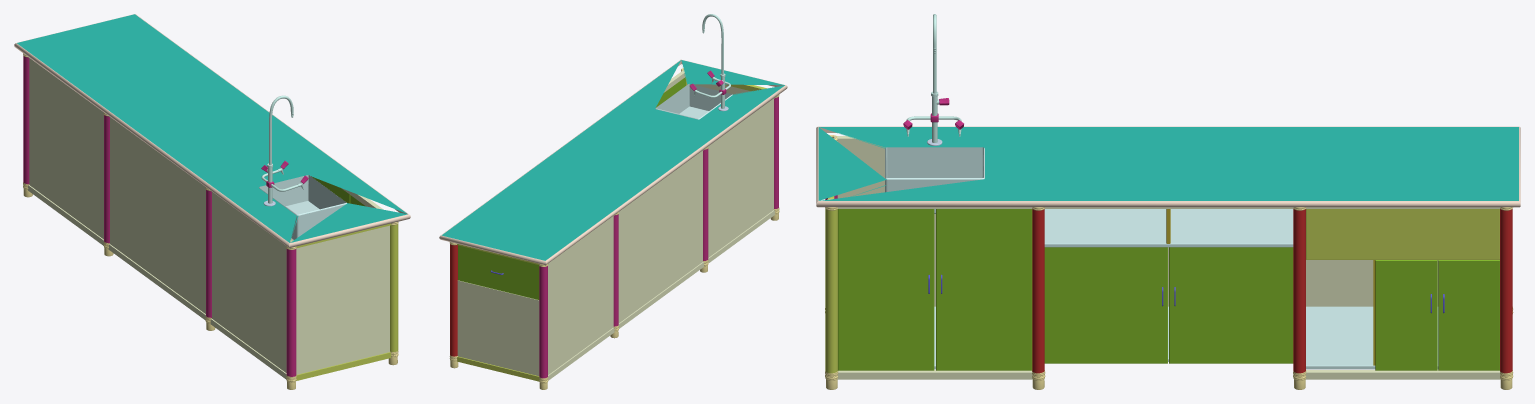
File: experiment_table.gltf
The picture shows the model from 3 angles, left to right: view 1: azimuth 30°, elevation 25°; view 2: azimuth 150°, elevation 25°; view 3: azimuth 270°, elevation 25°; orthographic projection. The views are drawn at different scales.
Visible parts, largest first — view 1: Obj3d66_623504_2_128, Obj3d66_623504_83_994, Obj3d66_623504_16_648, Obj3d66_623504_1_82, Obj3d66_623504_94_88, Obj3d66_623504_84_915, Obj3d66_623504_13_331, Obj3d66_623504_7_619, Obj3d66_623504_27_129, Obj3d66_623504_42_282, Obj3d66_623504_69_554, Obj3d66_623504_53_266 (+1 smaller); view 2: Obj3d66_623504_2_128, Obj3d66_623504_83_994, Obj3d66_623504_31_690, Obj3d66_623504_90_339, Obj3d66_623504_1_82, Obj3d66_623504_84_915, Obj3d66_623504_94_88, Obj3d66_623504_27_129, Obj3d66_623504_22_727, Obj3d66_623504_42_282, Obj3d66_623504_69_554, Obj3d66_623504_13_331 (+2 smaller); view 3: Obj3d66_623504_83_994, Obj3d66_623504_79_422, Obj3d66_623504_80_75, Obj3d66_623504_47_994, Obj3d66_623504_48_851, Obj3d66_623504_86_1, Obj3d66_623504_87_779, Obj3d66_623504_52_782, Obj3d66_623504_51_130, Obj3d66_623504_1_82, Obj3d66_623504_91_595, Obj3d66_623504_2_128 (+8 smaller).
Part boxes in pixels (box(x1,y1,x2,y2)): Obj3d66_623504_2_128: box(29, 58, 286, 372); Obj3d66_623504_83_994: box(17, 14, 407, 242); Obj3d66_623504_16_648: box(296, 225, 389, 374); Obj3d66_623504_1_82: box(14, 14, 410, 248); Obj3d66_623504_94_88: box(259, 175, 346, 239); Obj3d66_623504_84_915: box(28, 57, 292, 379); Obj3d66_623504_13_331: box(286, 249, 296, 376); Obj3d66_623504_7_619: box(390, 224, 398, 351); Obj3d66_623504_27_129: box(23, 56, 29, 184); Obj3d66_623504_42_282: box(104, 115, 109, 243); Obj3d66_623504_69_554: box(206, 190, 211, 317); Obj3d66_623504_53_266: box(261, 95, 303, 203); Obj3d66_623504_2_128: box(548, 99, 773, 374); Obj3d66_623504_83_994: box(442, 60, 784, 260); Obj3d66_623504_31_690: box(457, 280, 539, 375); Obj3d66_623504_90_339: box(458, 245, 539, 299); Obj3d66_623504_1_82: box(439, 59, 787, 265); Obj3d66_623504_84_915: box(548, 98, 774, 380); Obj3d66_623504_94_88: box(655, 83, 732, 119); Obj3d66_623504_27_129: box(539, 266, 547, 378); Obj3d66_623504_22_727: box(450, 244, 457, 356); Obj3d66_623504_42_282: box(613, 214, 618, 326); Obj3d66_623504_69_554: box(703, 148, 708, 260); Obj3d66_623504_13_331: box(774, 97, 778, 208); Obj3d66_623504_83_994: box(818, 127, 1518, 200); Obj3d66_623504_79_422: box(936, 209, 1032, 370); Obj3d66_623504_80_75: box(838, 209, 934, 370); Obj3d66_623504_47_994: box(1169, 247, 1293, 363); Obj3d66_623504_48_851: box(1044, 247, 1167, 363); Obj3d66_623504_86_1: box(1306, 209, 1499, 259); Obj3d66_623504_87_779: box(1044, 209, 1293, 247); Obj3d66_623504_52_782: box(1375, 260, 1437, 370); Obj3d66_623504_51_130: box(1438, 260, 1499, 370); Obj3d66_623504_1_82: box(816, 126, 1520, 207); Obj3d66_623504_91_595: box(934, 306, 1438, 369); Obj3d66_623504_2_128: box(837, 146, 1438, 306).
Bounding box in the file's own units: 721 × 1443 × 2817.
